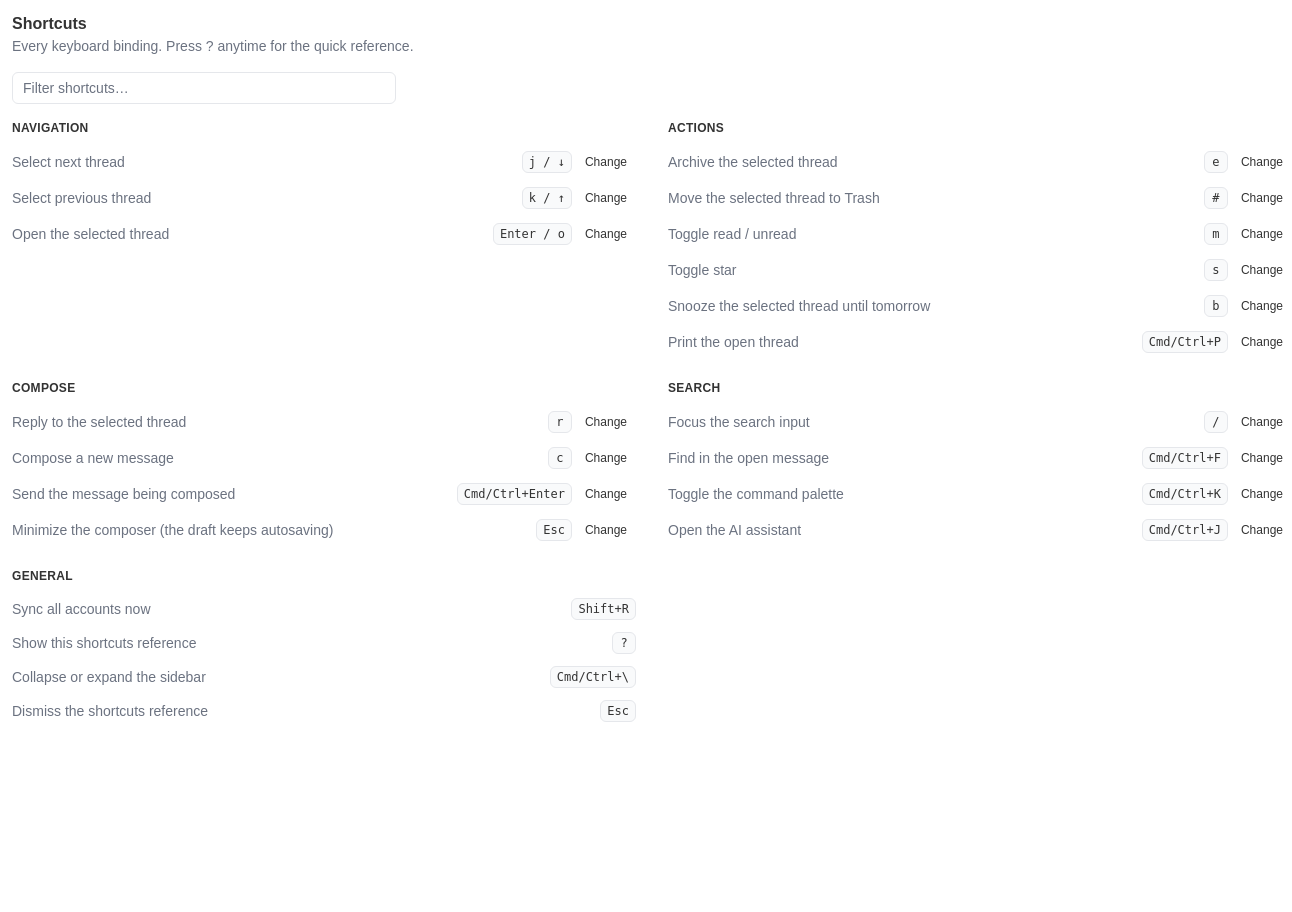
ShortcutsSection — conflict blocking (spec: conflict is blocked) › rejects a multi-alias collision, not just exact strings
Click the button with test id "rebind-open-thread" at [606, 234], box [576,222,636,246]
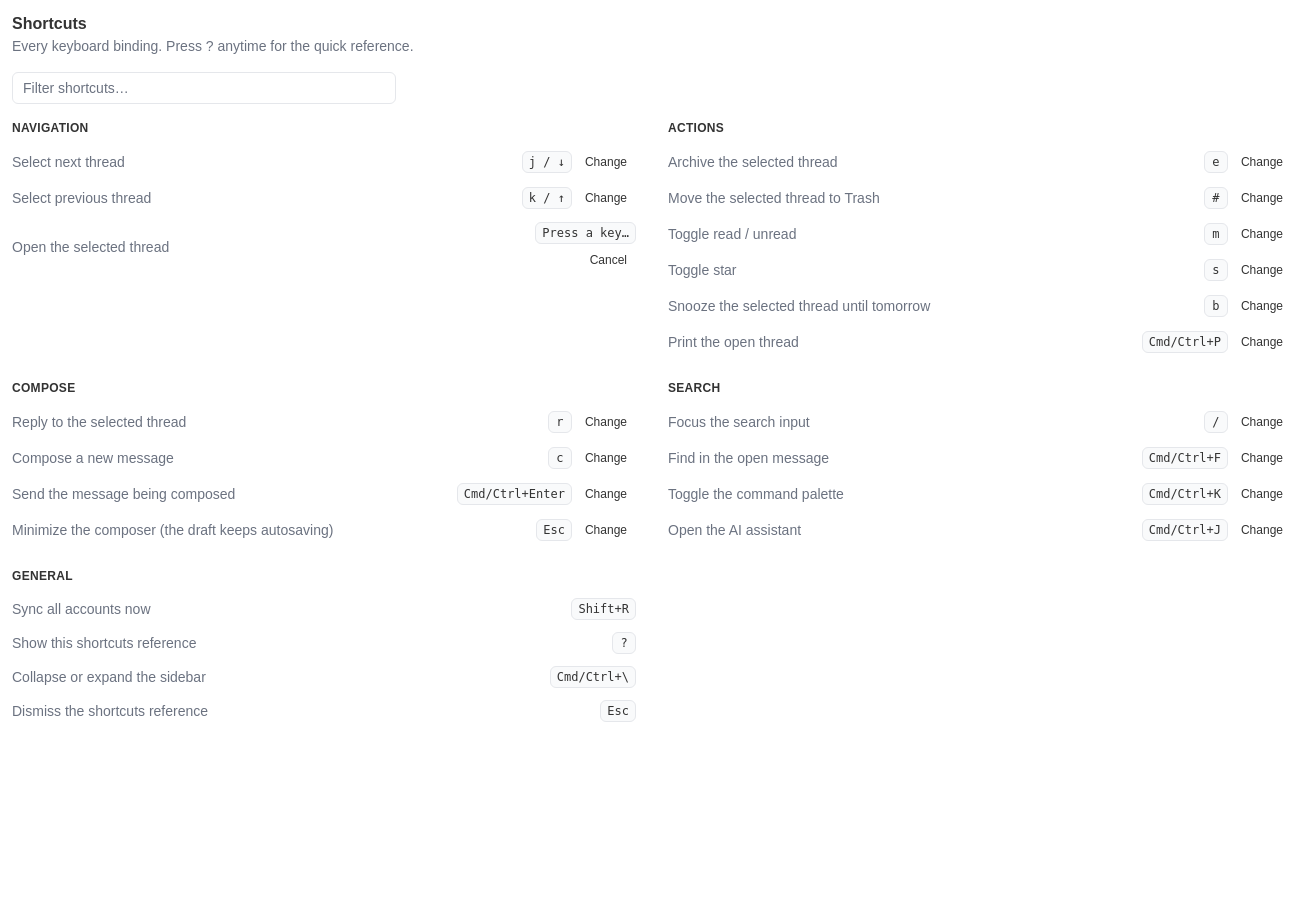
Press ArrowDown
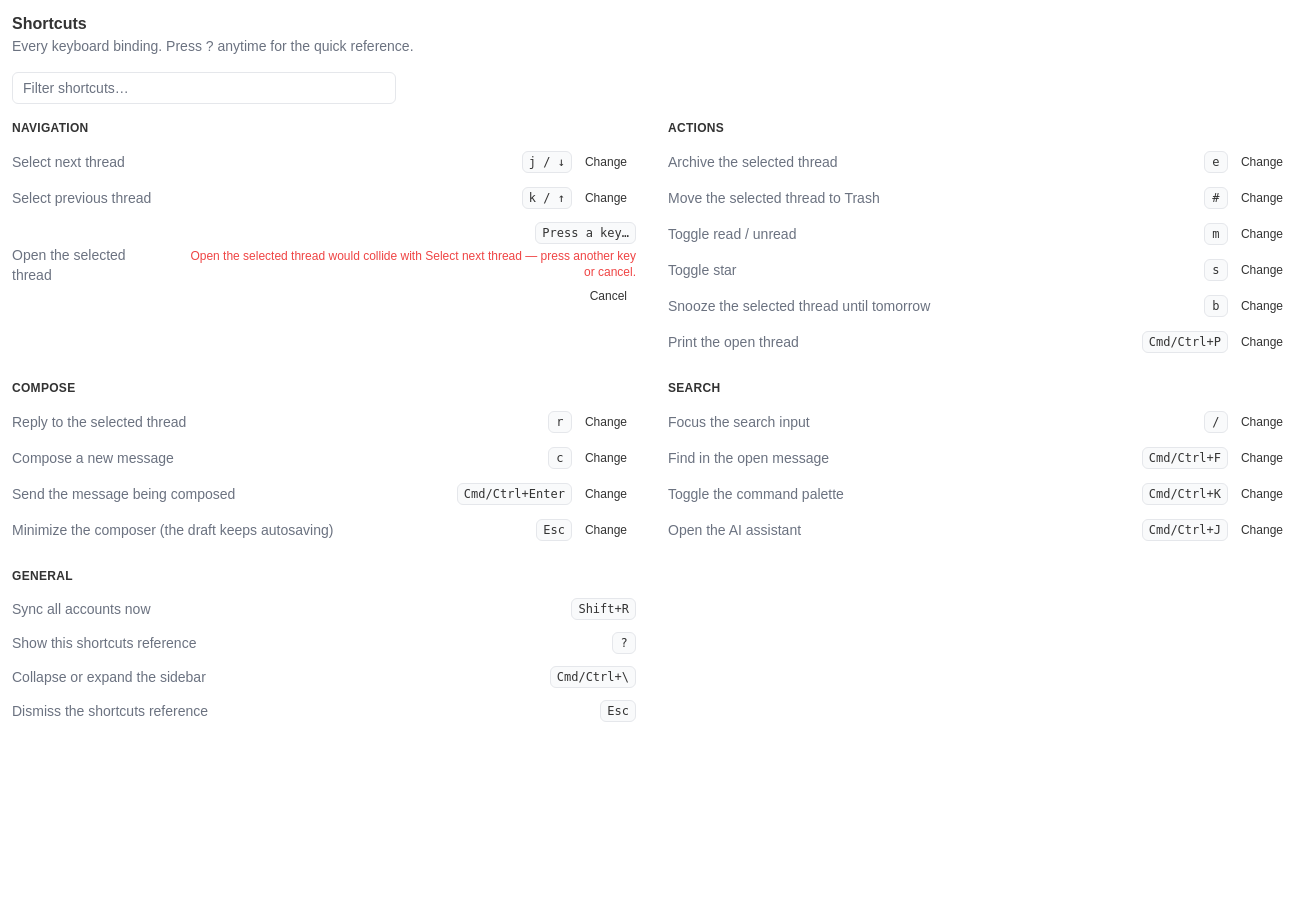
Now the text with test id "shortcut-conflict-open-thread" shows "Select next thread", box [425,249,522,263]
